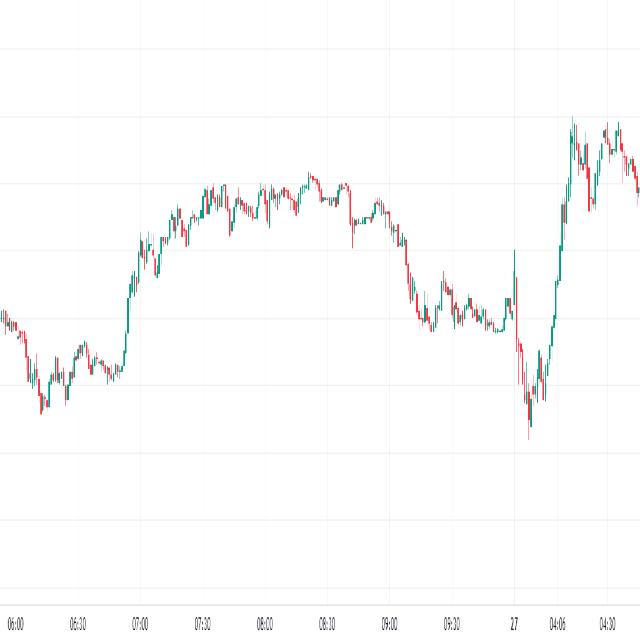Rounding-Top: (118, 150, 426, 345), (516, 330, 557, 440)
